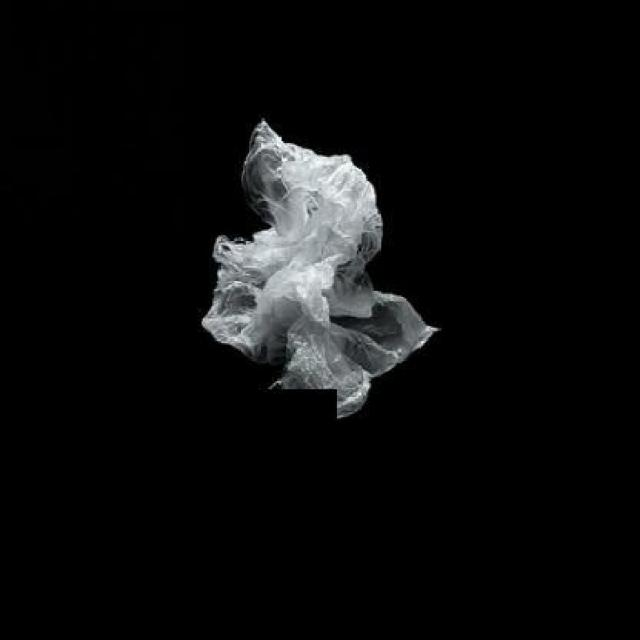plastic bag: (195, 110, 443, 438)
